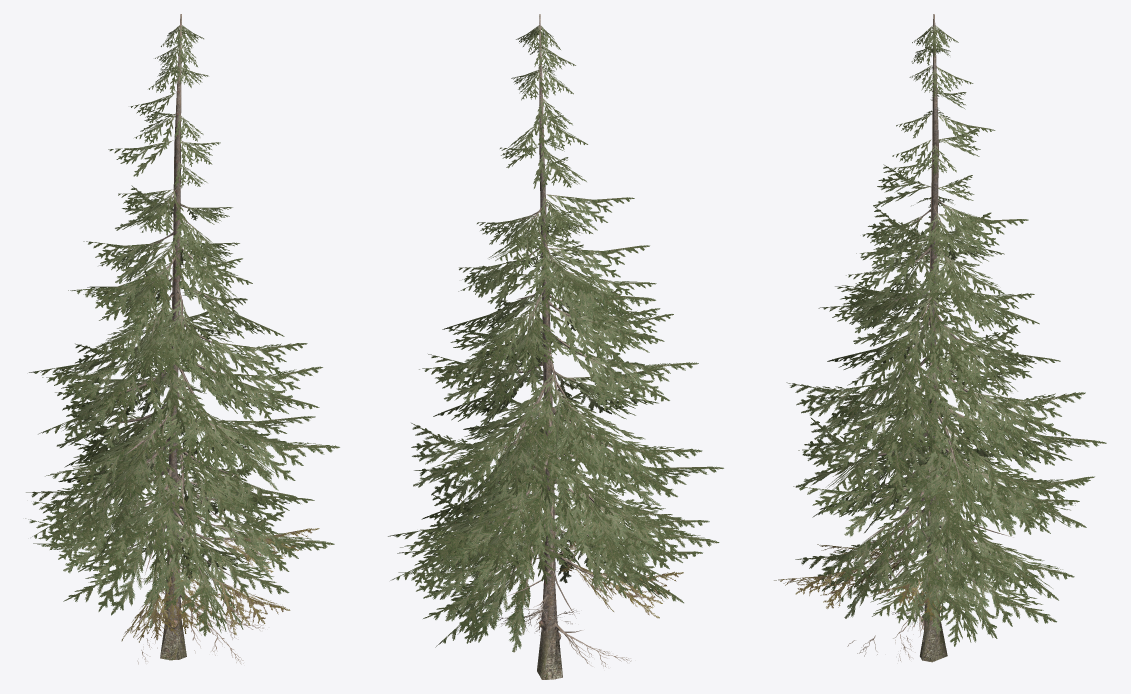
Rendered from Spruce5_LOD1.fbx.
3 views of the same model, side by side, from view 1: azimuth 30°, elevation 25°; view 2: azimuth 150°, elevation 25°; view 3: azimuth 270°, elevation 25° (orthographic). The views are drawn at different scales.
Parts seen in each view (by area): view 1: spruce 2_1, spruce 1_0; view 2: spruce 2_1, spruce 1_0; view 3: spruce 2_1, spruce 1_0.
Part boxes in pixels (x1,y1,x2,y2): spruce 2_1: [25, 25, 339, 664]; spruce 1_0: [96, 14, 251, 660]; spruce 2_1: [388, 25, 723, 667]; spruce 1_0: [472, 14, 624, 679]; spruce 2_1: [774, 25, 1106, 661]; spruce 1_0: [855, 14, 1013, 662].
Bounding box in the file's own units: 532 × 1049 × 520.
2 materials, 2 textured.
